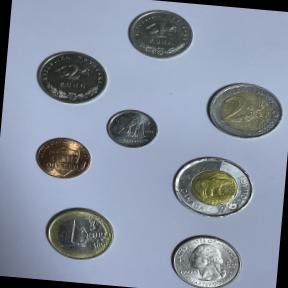1 Euro: (39, 201, 120, 266)
2 Euro: (200, 75, 288, 146)
Canda-10cent-: (100, 104, 165, 154)
Canda-2Dollar-: (164, 148, 260, 225)
Croatia-2Kune-: (26, 44, 112, 112)
US-1cent-: (30, 130, 96, 183)
US-25cent-: (161, 228, 253, 288)
